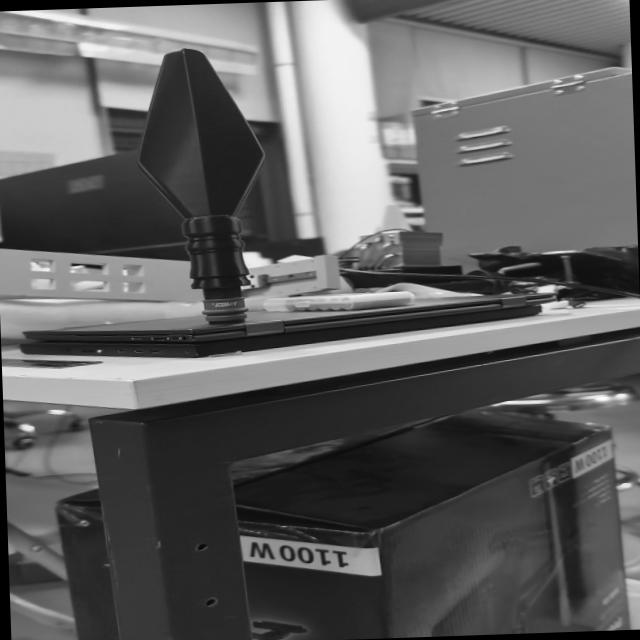base: (202, 296, 248, 324)
